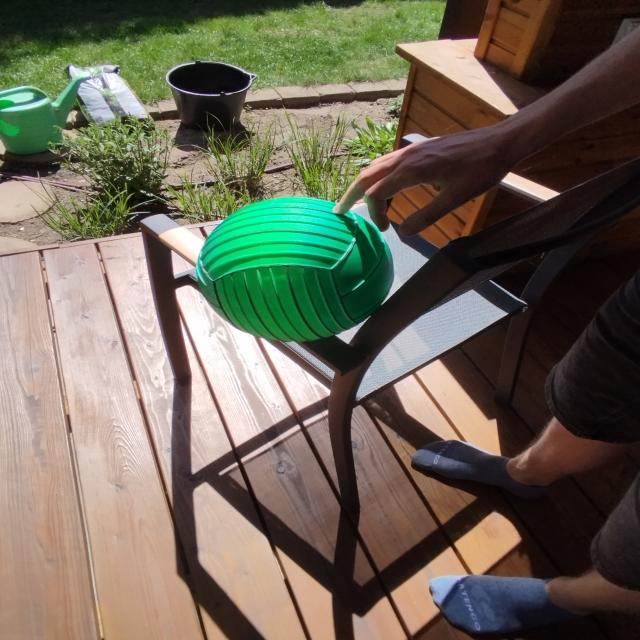zielona: (194, 198, 393, 342)
